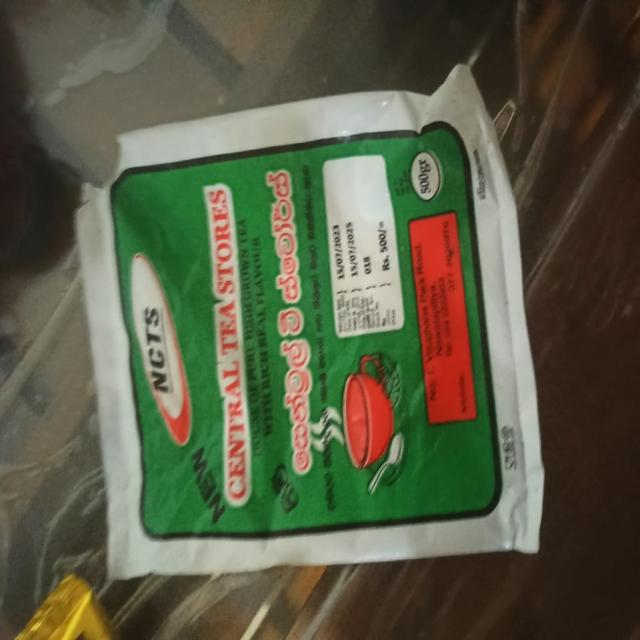Central Tea: (72, 133, 523, 558)
